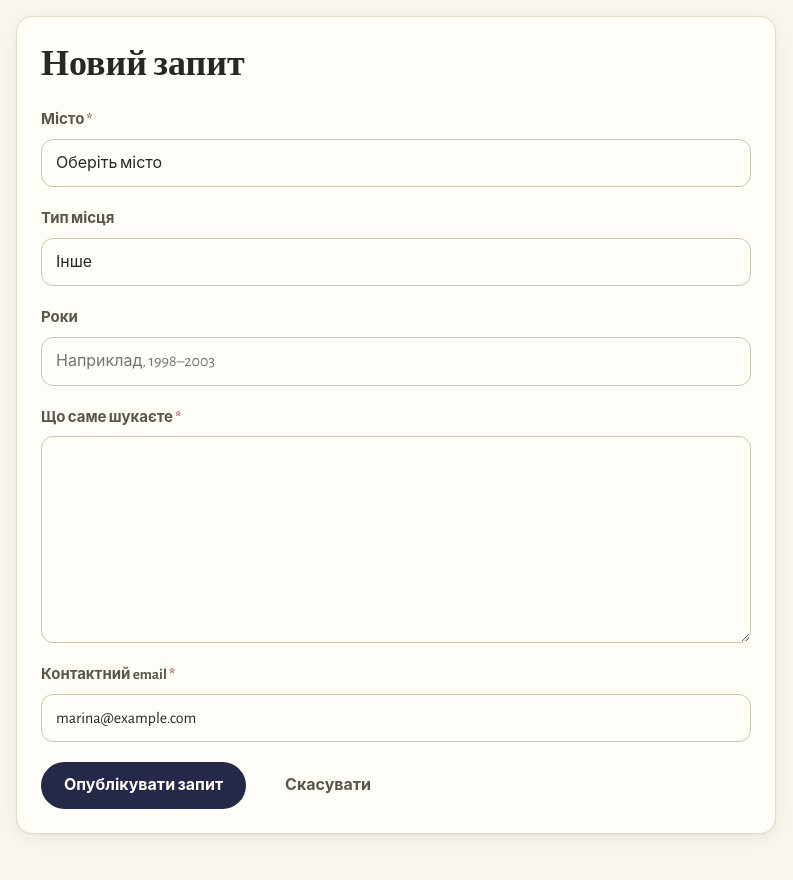
Test case: LostNewPage › blocks submission when description is blank even if city and email are filled
Select "Київ" in the dropdown labelled "Місто *": (396, 163) [41,139,751,187]
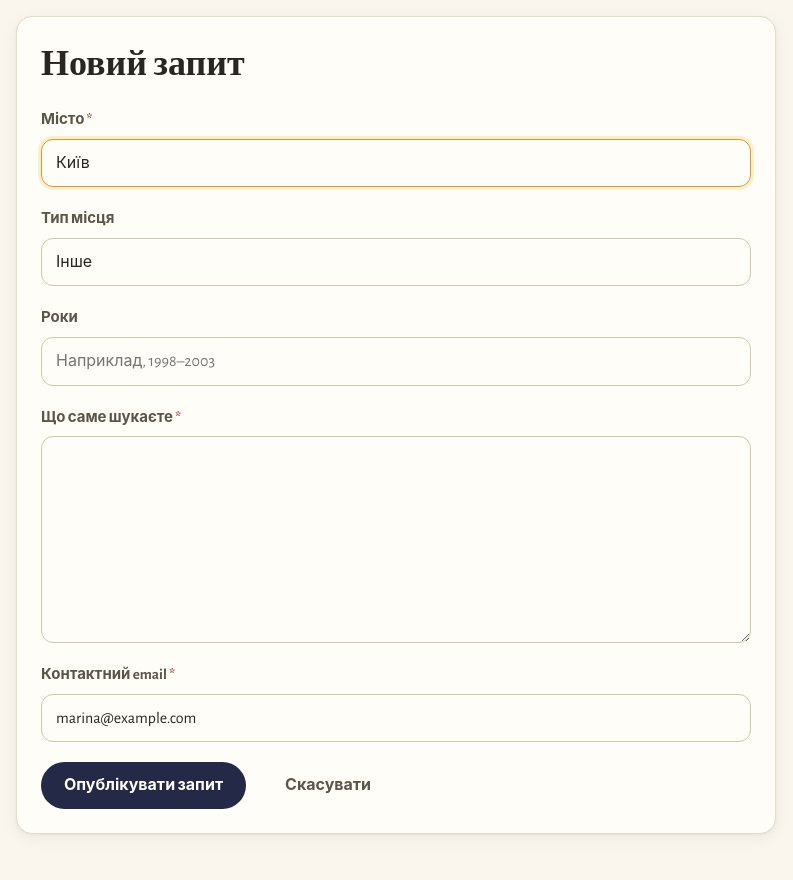
Click the button "Опублікувати запит": (144, 785) [41,762,246,809]
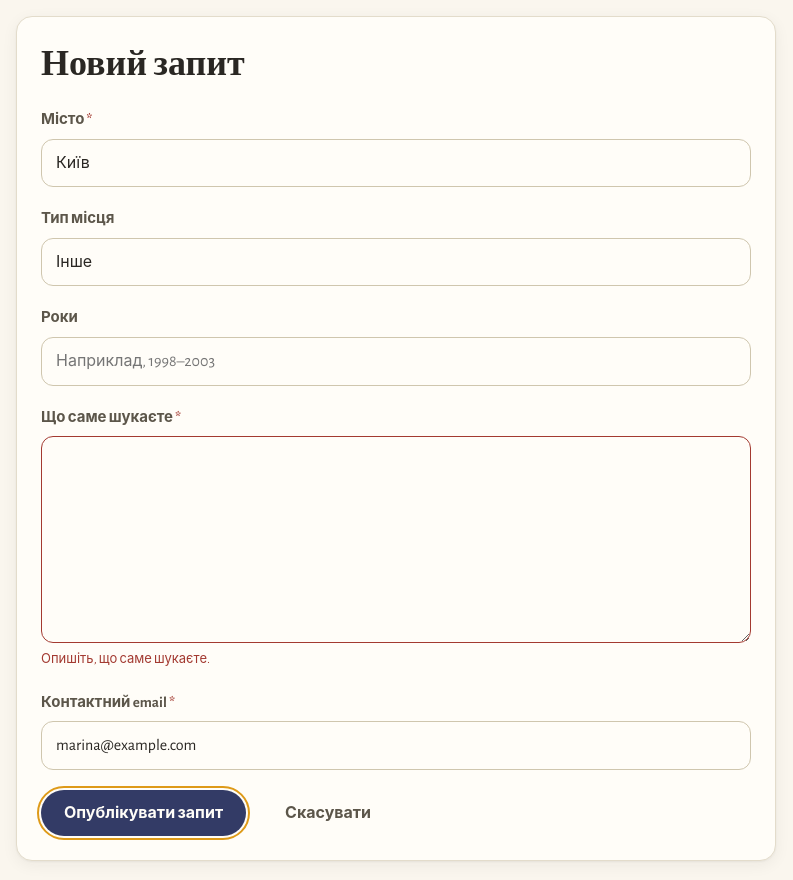
expect the text "Опишіть, що саме шукаєте." is shown: met, box [41,653,210,666]
